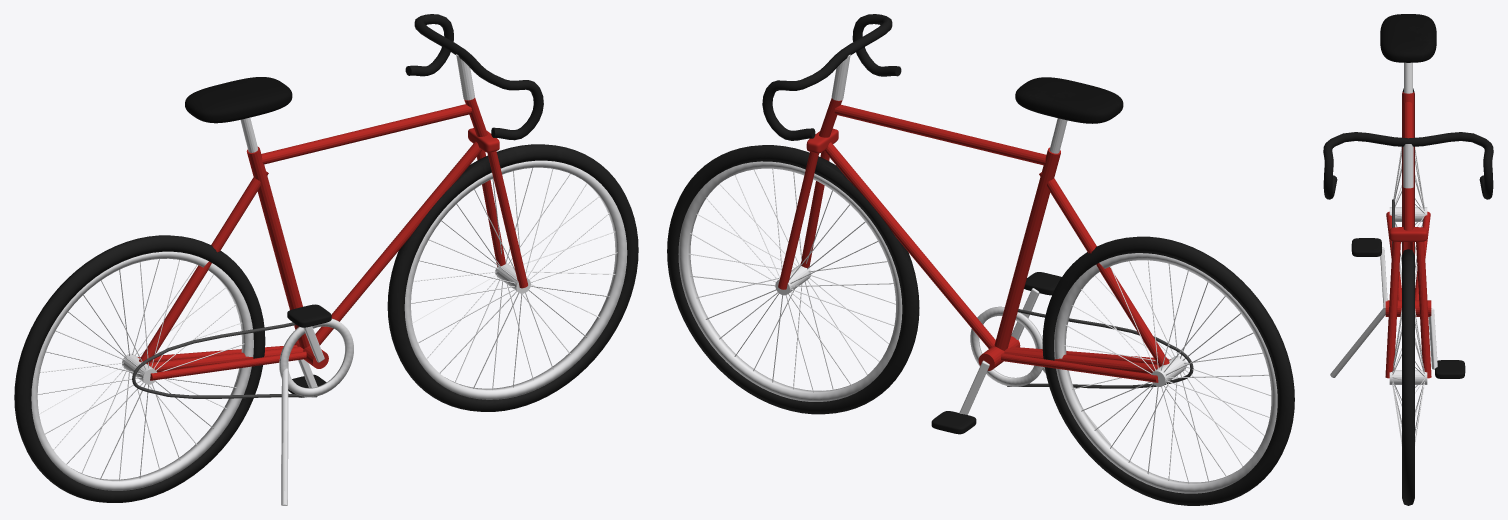
The model's file is road-red-drop.glb.
The picture shows the model from 3 angles, left to right: view 1: azimuth 30°, elevation 25°; view 2: azimuth 150°, elevation 25°; view 3: azimuth 270°, elevation 25°; orthographic projection. The views are drawn at different scales.
Parts seen in each view (by area): view 1: chrome, tyre, paint_primary_frame, saddle_leather, bar_tape, chain_dark, pedal; view 2: chrome, tyre, paint_primary_frame, saddle_leather, bar_tape, pedal, chain_dark; view 3: paint_primary_frame, chrome, tyre, bar_tape, saddle_leather, pedal.
Boxes of the visible parts, x1=… form: chrome: x1=31, y1=54, x2=627, y2=505; tyre: x1=14, y1=144, x2=638, y2=502; paint_primary_frame: x1=138, y1=98, x2=527, y2=380; saddle_leather: x1=185, y1=77, x2=292, y2=123; bar_tape: x1=405, y1=14, x2=543, y2=140; chain_dark: x1=132, y1=322, x2=317, y2=398; pedal: x1=287, y1=304, x2=331, y2=397; chrome: x1=678, y1=54, x2=1277, y2=493; tyre: x1=667, y1=145, x2=1294, y2=505; paint_primary_frame: x1=778, y1=98, x2=1170, y2=382; saddle_leather: x1=1015, y1=77, x2=1123, y2=123; bar_tape: x1=762, y1=14, x2=901, y2=140; pedal: x1=931, y1=272, x2=1061, y2=434; chain_dark: x1=1007, y1=309, x2=1193, y2=388; paint_primary_frame: x1=1385, y1=92, x2=1431, y2=378; chrome: x1=1330, y1=62, x2=1437, y2=445; tyre: x1=1402, y1=88, x2=1414, y2=505; bar_tape: x1=1323, y1=132, x2=1493, y2=199; saddle_leather: x1=1380, y1=14, x2=1436, y2=62; pedal: x1=1351, y1=238, x2=1465, y2=378.
Bounding box in the file's own units: 1.7 × 1.01 × 0.4502.
7 materials, 4 textured.
